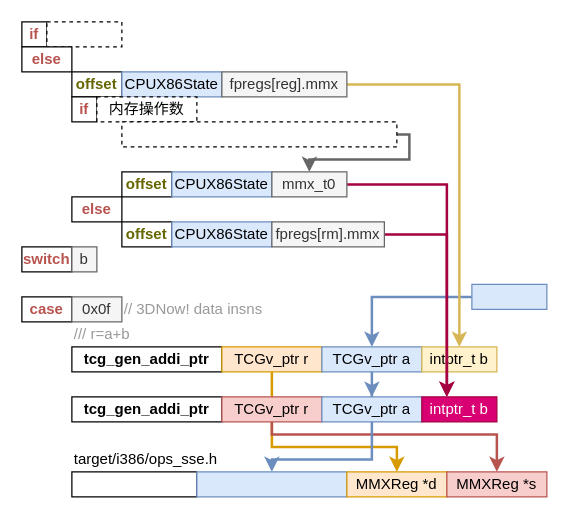
This 569x519 diagram has some shape labels left out. Each missing label, with the centre of its shape:
cpu_env: (x=509, y=296)
CPUX86State *env: (x=271, y=484)
gen_helper_xxx: (x=134, y=484)
使用xmm: (x=84, y=34)
将64bit (quadword)从内存读到mmx_t0里: (x=259, y=134)
